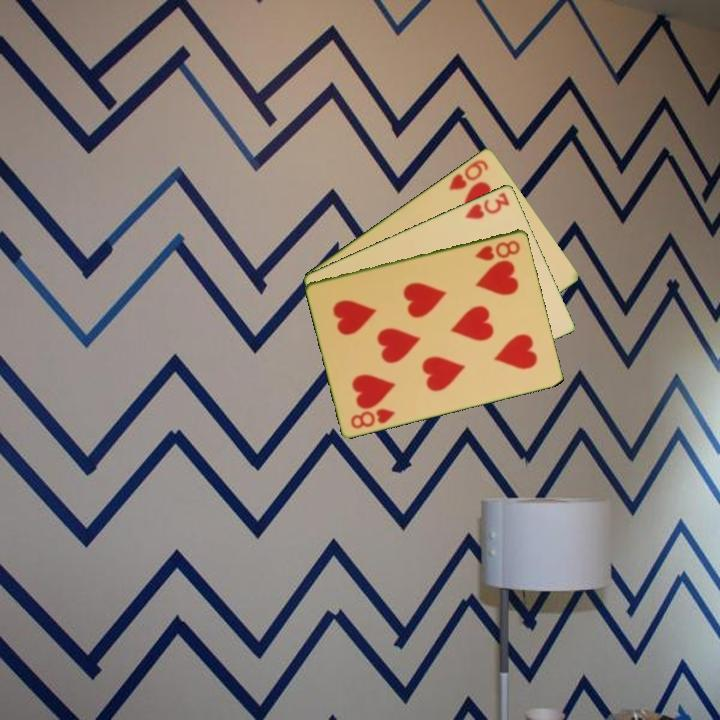3h: (462, 188, 513, 222)
6h: (445, 155, 491, 193)
8h: (472, 236, 523, 263), (347, 404, 398, 431)
